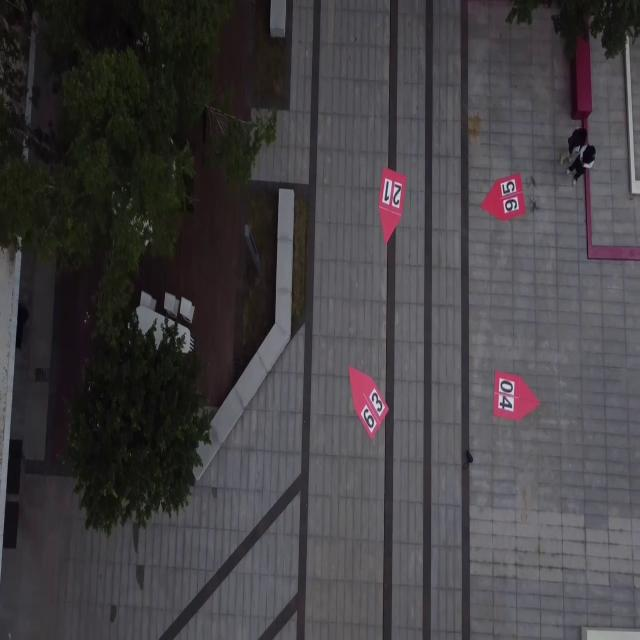-sign-: (348, 364, 389, 439), (494, 371, 542, 423), (480, 172, 526, 222), (377, 165, 406, 243)
